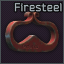Old firesteel: (0, 0, 64, 64)
